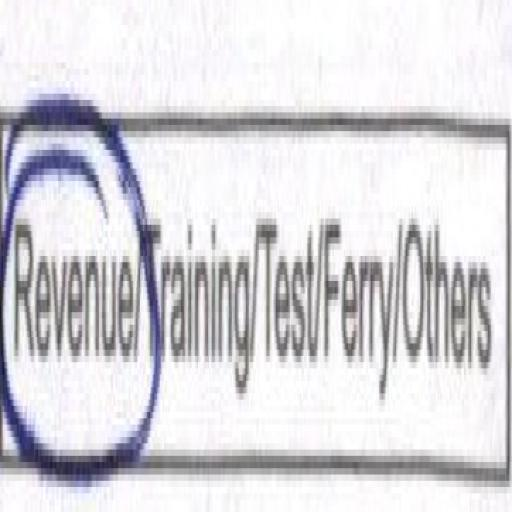check: (0, 18, 143, 512)
